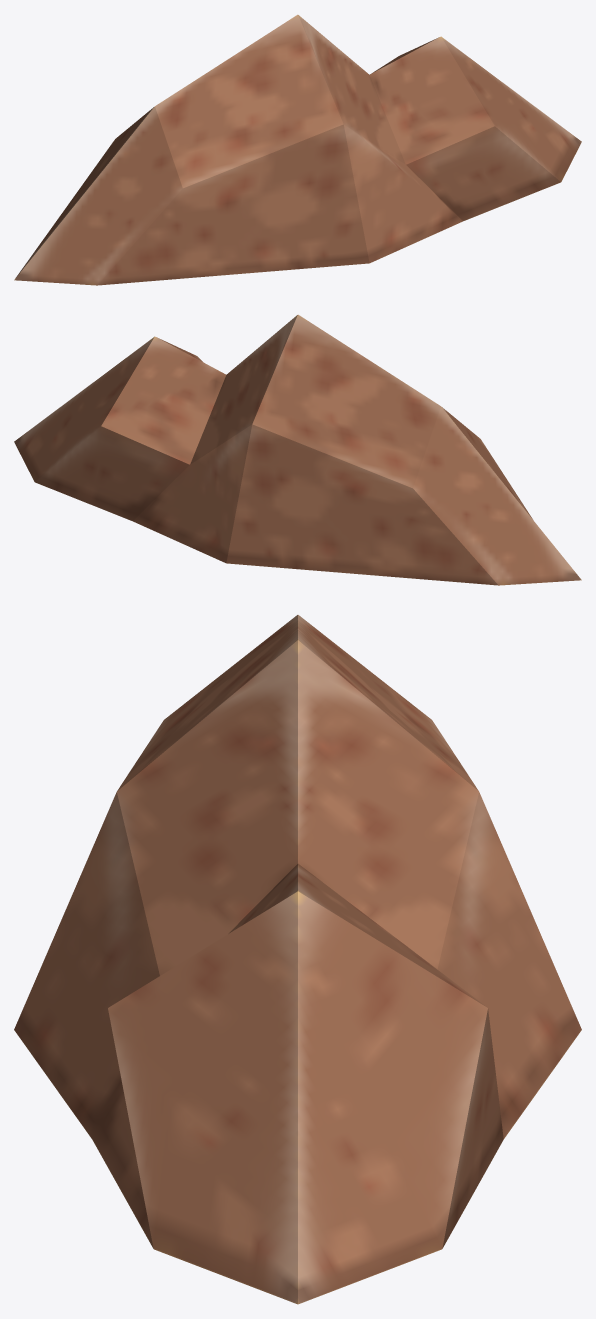
The model's file is Rock_2.fbx.
The picture shows the model from 3 angles, top to bottom: view 1: azimuth 30°, elevation 25°; view 2: azimuth 150°, elevation 25°; view 3: azimuth 270°, elevation 25°; orthographic projection. The views are drawn at different scales.
Visible parts, largest first — view 1: Rock_2; view 2: Rock_2; view 3: Rock_2.
Boxes of the visible parts, x1,y1,x2,y2 form: Rock_2: (14, 14, 581, 285); Rock_2: (14, 314, 581, 585); Rock_2: (14, 615, 581, 1304).
Size of the model in its own units: 250 by 82.8 by 109.
